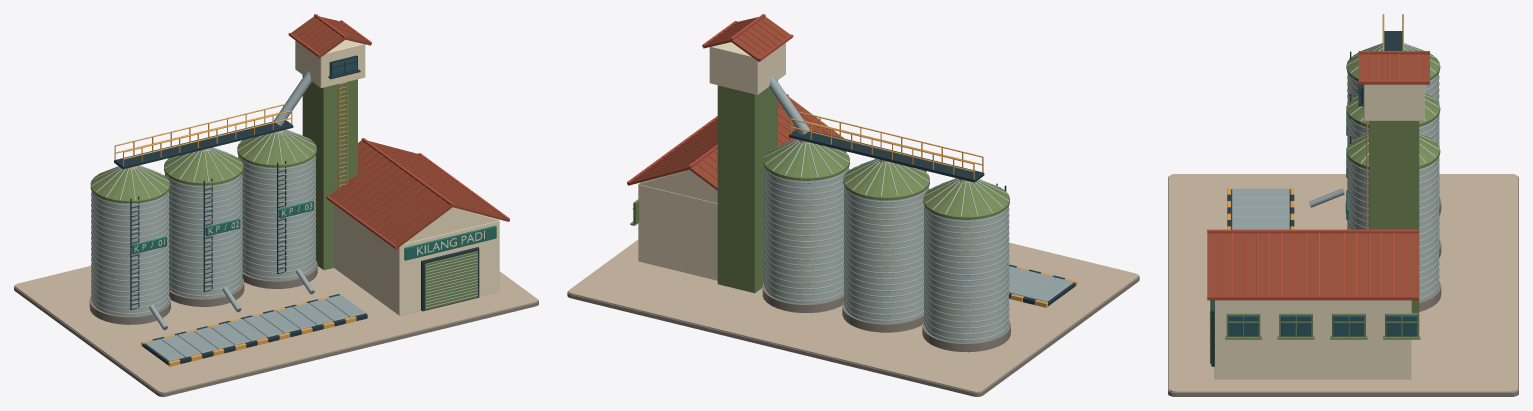
The picture shows the model from 3 angles, left to right: view 1: azimuth 30°, elevation 25°; view 2: azimuth 150°, elevation 25°; view 3: azimuth 270°, elevation 25°; orthographic projection. The views are drawn at different scales.
Visible parts, largest first — view 1: Galvanised Grain Cells, Weighbridge Apron, Bagging Hall, Auger Catwalk; view 2: Galvanised Grain Cells, Weighbridge Apron, Auger Catwalk, Bagging Hall; view 3: Weighbridge Apron, Bagging Hall, Auger Catwalk, Galvanised Grain Cells.
Boxes of the visible parts, bbox=[...] form: Galvanised Grain Cells: bbox=[89, 129, 317, 330]; Weighbridge Apron: bbox=[14, 265, 538, 396]; Bagging Hall: bbox=[326, 138, 509, 315]; Auger Catwalk: bbox=[114, 14, 371, 269]; Galvanised Grain Cells: bbox=[762, 139, 1010, 352]; Weighbridge Apron: bbox=[567, 239, 1139, 396]; Auger Catwalk: bbox=[702, 14, 984, 293]; Bagging Hall: bbox=[627, 94, 844, 280]; Weighbridge Apron: bbox=[1168, 174, 1518, 396]; Bagging Hall: bbox=[1207, 229, 1420, 379]; Auger Catwalk: bbox=[1358, 14, 1429, 335]; Galvanised Grain Cells: bbox=[1309, 43, 1441, 311].
Size of the model in its own units: 28 by 16.7 by 19.
